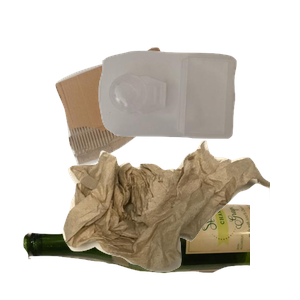cardboard: (53, 45, 221, 204)
glass: (21, 201, 261, 300)
plastic: (96, 48, 300, 179)
trash: (60, 138, 300, 300)
